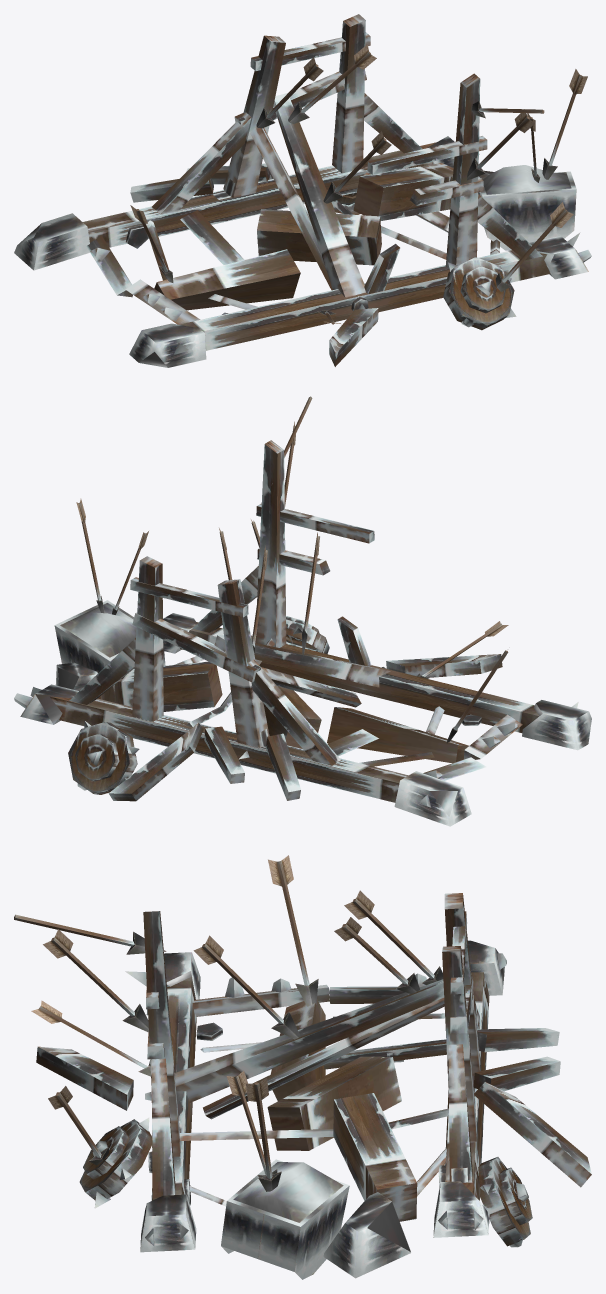
File: h5_xue_poche_b.FBX
3 renders of one model, top to bottom at view 1: azimuth 30°, elevation 25°; view 2: azimuth 150°, elevation 25°; view 3: azimuth 270°, elevation 25°, orthographic. The views are drawn at different scales.
Parts seen in each view (by area): view 1: h5_xue_poche_b; view 2: h5_xue_poche_b; view 3: h5_xue_poche_b.
Part boxes in pixels (left/top/right/bottom): h5_xue_poche_b: left=14, top=14, right=591, bottom=367; h5_xue_poche_b: left=14, top=396, right=591, bottom=826; h5_xue_poche_b: left=14, top=855, right=591, bottom=1279.
Size of the model in its own units: 4.01 by 2.02 by 3.32.
